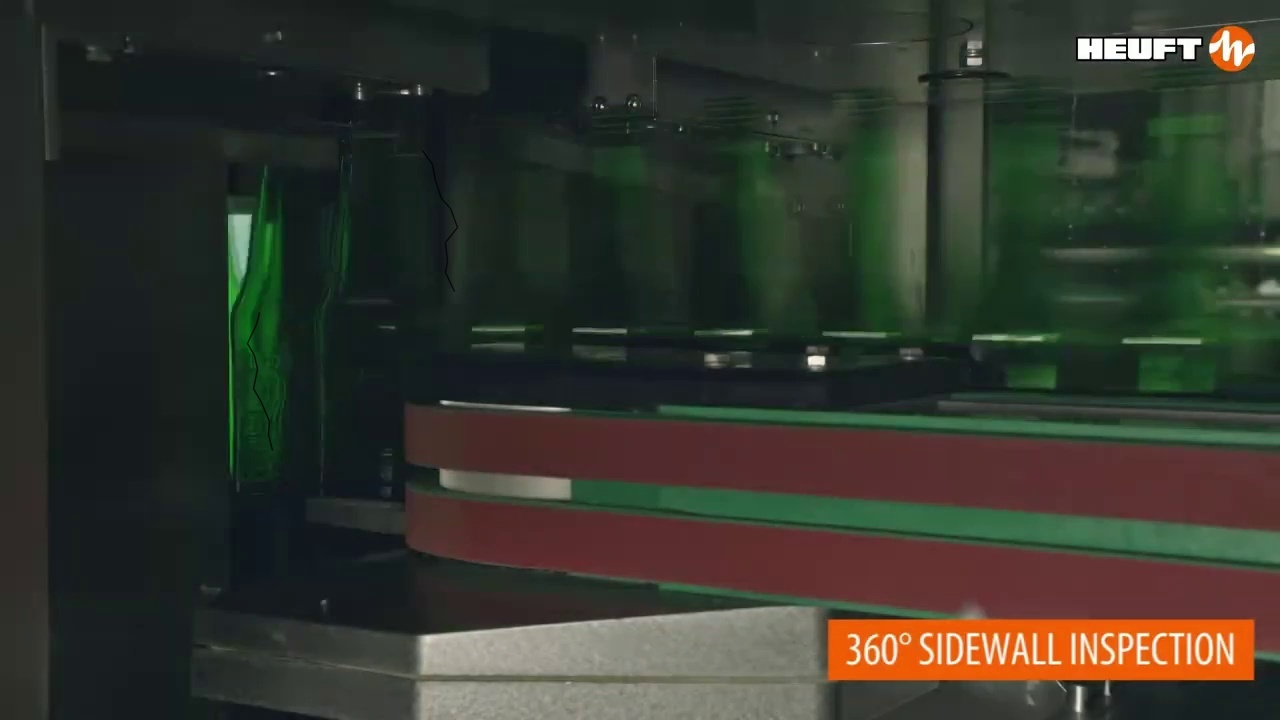bottle: (315, 147, 442, 507), (227, 168, 327, 501)
crack: (422, 150, 457, 291), (247, 312, 272, 450)
